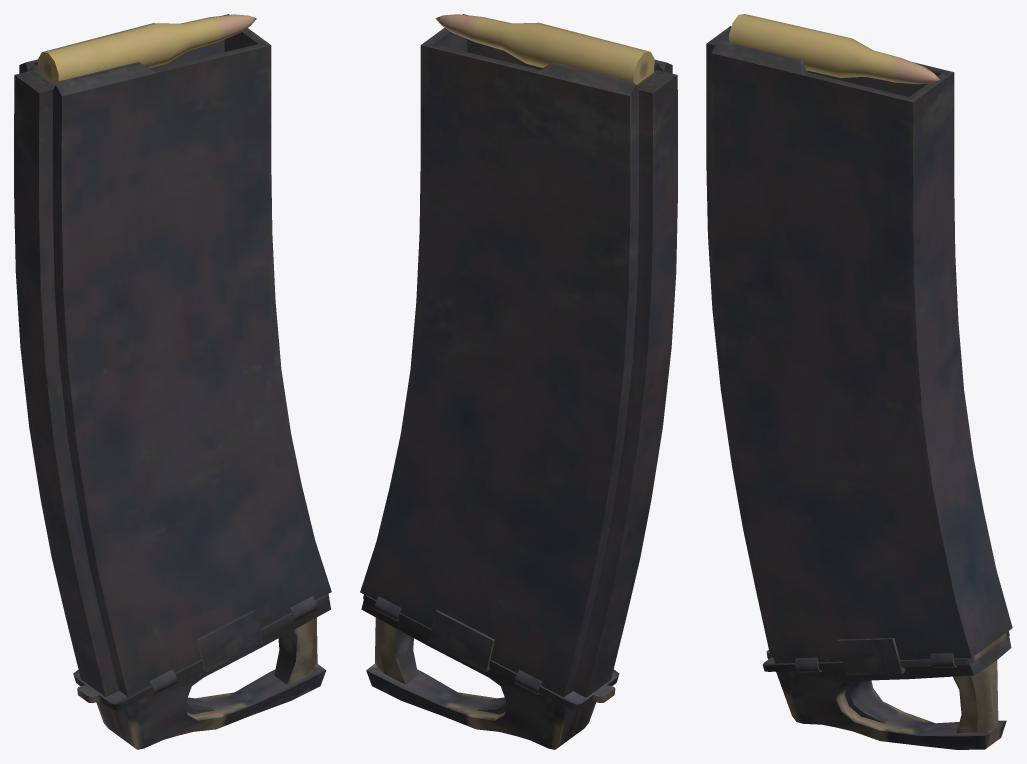
The model's file is ST_MAG_Q_Scar.FBX.
3 renders of one model, left to right at view 1: azimuth 30°, elevation 25°; view 2: azimuth 150°, elevation 25°; view 3: azimuth 330°, elevation 25°, orthographic. The views are drawn at different scales.
Visible parts, largest first — view 1: ST_MAG_Q_Scar; view 2: ST_MAG_Q_Scar; view 3: ST_MAG_Q_Scar.
Part boxes in pixels (x1,y1,x2,y2): ST_MAG_Q_Scar: (14,14,331,749); ST_MAG_Q_Scar: (360,14,677,749); ST_MAG_Q_Scar: (706,14,1012,749).
Bounding box in the file's own units: 7.83 × 18.38 × 2.3.
Materials: 1 (1 with a texture image).
